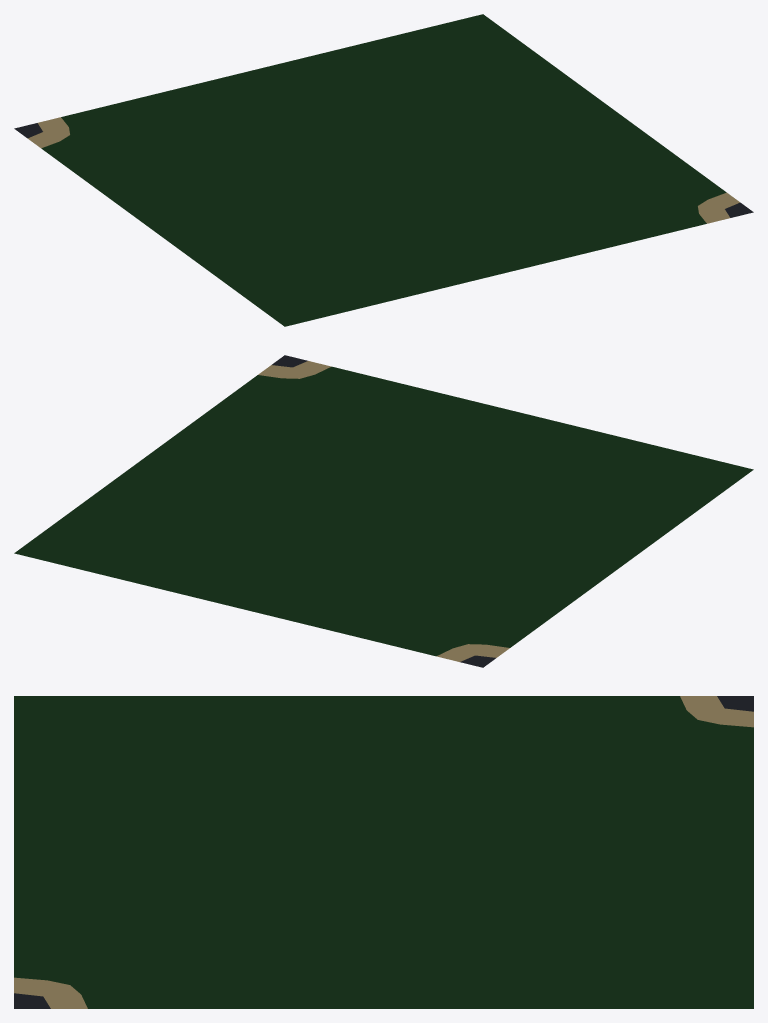
File: terrain_plain_shoreangle_diagonal.fbx
The picture shows the model from 3 angles, top to bottom: view 1: azimuth 30°, elevation 25°; view 2: azimuth 150°, elevation 25°; view 3: azimuth 270°, elevation 25°; orthographic projection. The views are drawn at different scales.
Visible parts, largest first — view 1: terrain_plain_shoreangle_diagonal; view 2: terrain_plain_shoreangle_diagonal; view 3: terrain_plain_shoreangle_diagonal.
Part boxes in pixels (x1,y1,x2,y2): terrain_plain_shoreangle_diagonal: [14, 14, 753, 326]; terrain_plain_shoreangle_diagonal: [14, 355, 753, 667]; terrain_plain_shoreangle_diagonal: [14, 696, 753, 1008].
Size of the model in its own units: 10 by 1.78e-15 by 10.
